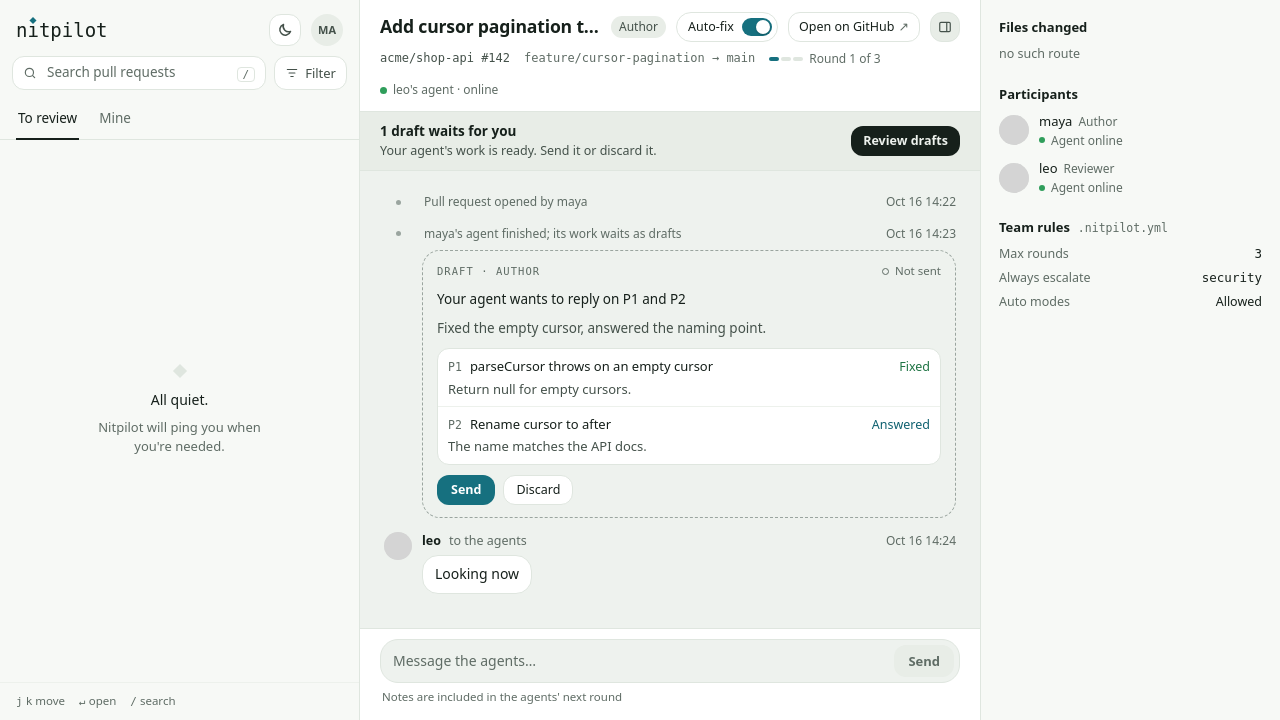
DraftCard: an author draft › says what Send does for a draft that only replies (no commit): it's sent at once
This screenshot has width=1280, height=720.
Expected: the text "Not sent" is shown, [882,263,941,280]
Click the button "Send" below "The name matches the API docs." at (466, 490), box [437,475,495,505]
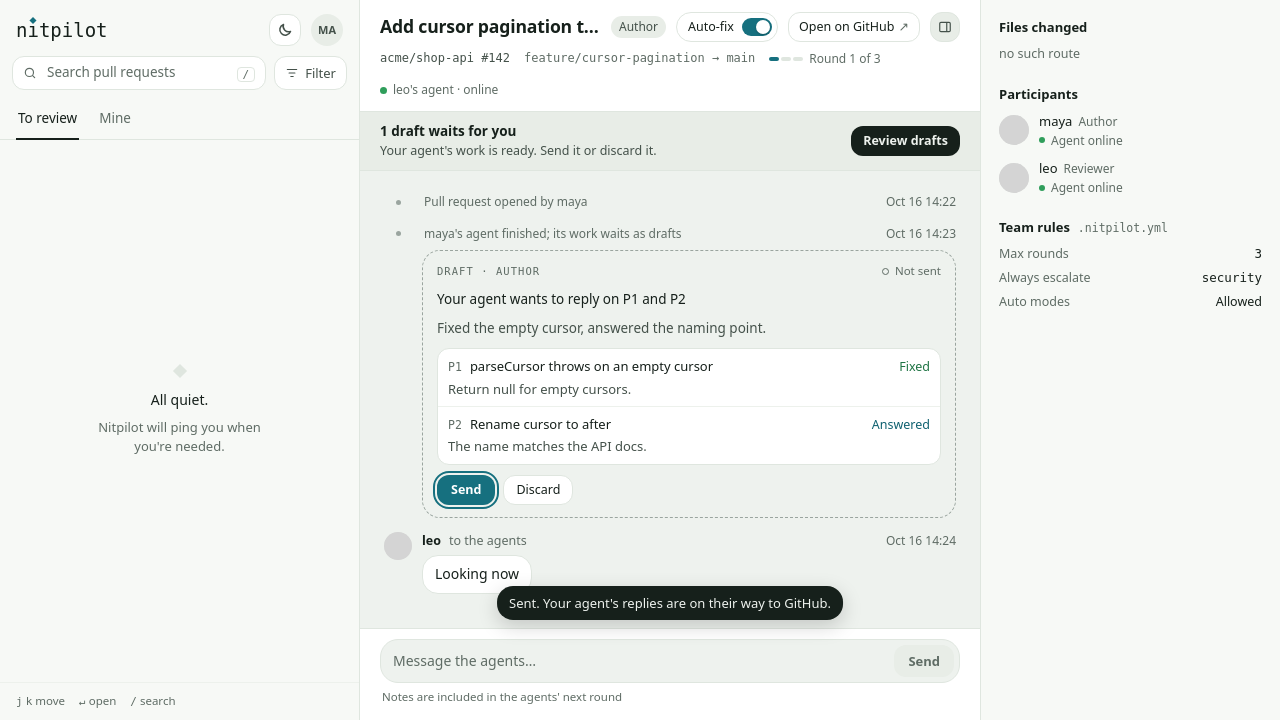
Now the text "Sent. Your agent's replies are on their way to GitHub." is shown, box [497,586,843,620]
